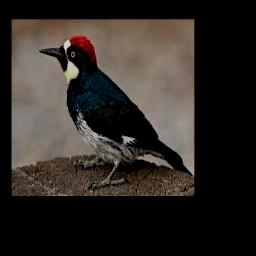Woodpecker: (39, 35, 192, 187)
